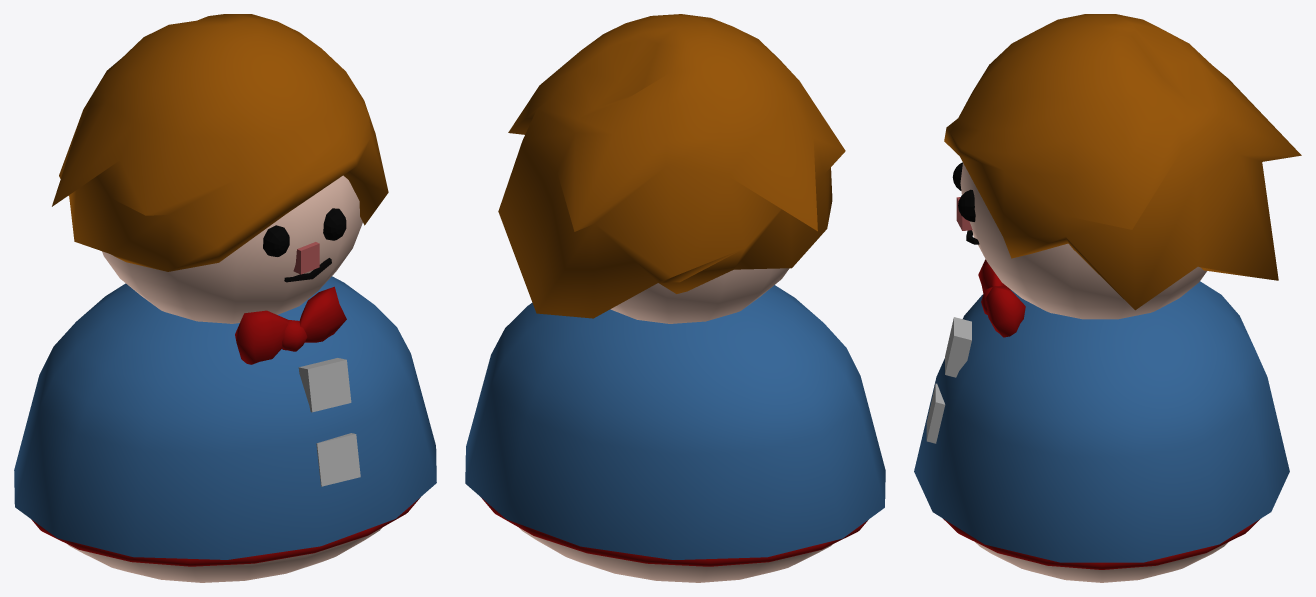
Rendered from boy_character 1.fbx.
3 views of the same model, side by side, from view 1: azimuth 30°, elevation 25°; view 2: azimuth 150°, elevation 25°; view 3: azimuth 270°, elevation 25° (orthographic).
Parts seen in each view (by area): view 1: shirt, hair, head, shirt_accent, bowtie, bottom, eyes, nose; view 2: shirt, hair, head, bottom, shirt_accent; view 3: shirt, hair, head, shirt_accent, bottom, bowtie, eyes.
Part boxes in pixels (x1=…): shirt: x1=14, y1=276, x2=436, y2=559; hair: x1=52, y1=14, x2=388, y2=271; head: x1=102, y1=175, x2=362, y2=323; shirt_accent: x1=31, y1=358, x2=420, y2=566; bowtie: x1=235, y1=286, x2=346, y2=364; bottom: x1=67, y1=527, x2=382, y2=582; eyes: x1=263, y1=208, x2=346, y2=256; nose: x1=293, y1=242, x2=319, y2=274; shirt: x1=465, y1=285, x2=885, y2=559; hair: x1=498, y1=14, x2=845, y2=318; head: x1=610, y1=268, x2=789, y2=323; bottom: x1=519, y1=528, x2=832, y2=582; shirt_accent: x1=481, y1=497, x2=868, y2=566; shirt: x1=914, y1=281, x2=1289, y2=562; hair: x1=944, y1=14, x2=1301, y2=310; head: x1=960, y1=163, x2=1206, y2=319; shirt_accent: x1=926, y1=317, x2=1259, y2=569; bottom: x1=975, y1=542, x2=1228, y2=582; bowtie: x1=978, y1=259, x2=1025, y2=337; eyes: x1=952, y1=162, x2=975, y2=221.
Bounding box in the file's own units: 2.16 × 2.88 × 1.94.
